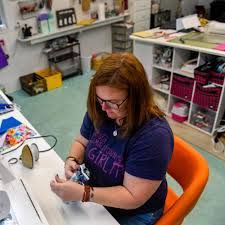unmasked: (88, 52, 144, 128)
